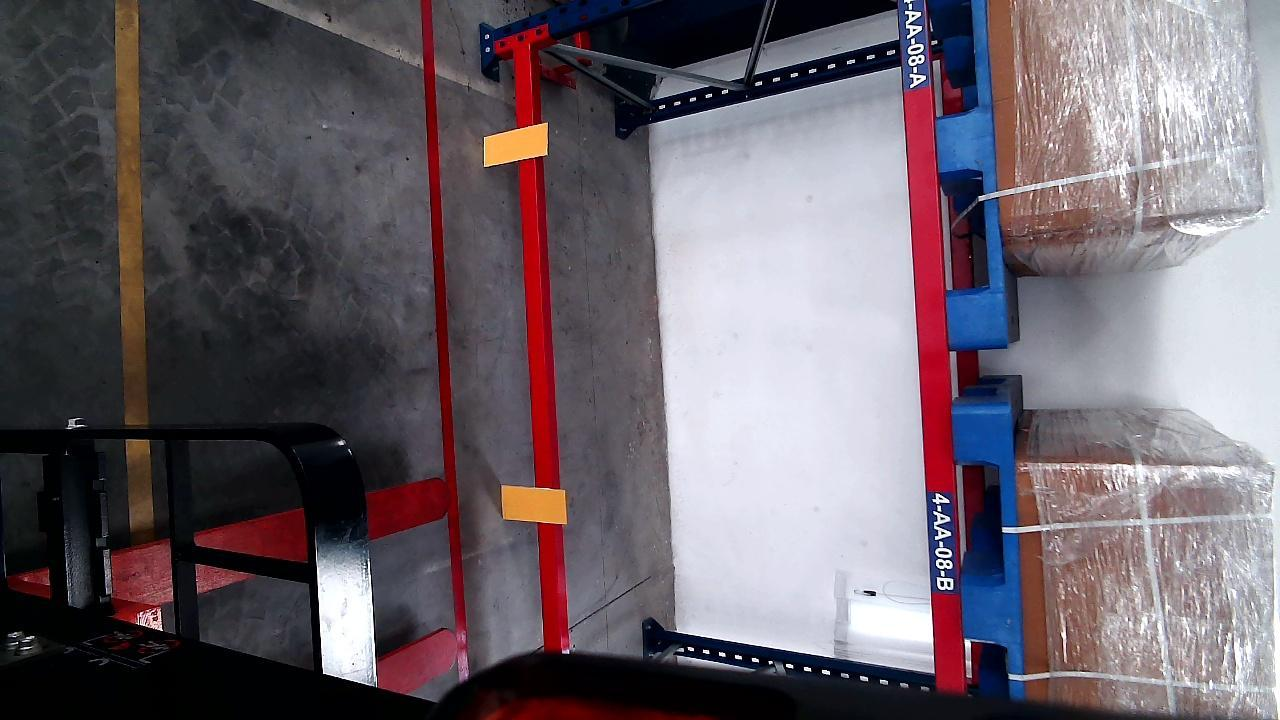red_line: (423, 1, 471, 678)
yellow_line: (114, 0, 149, 515)
